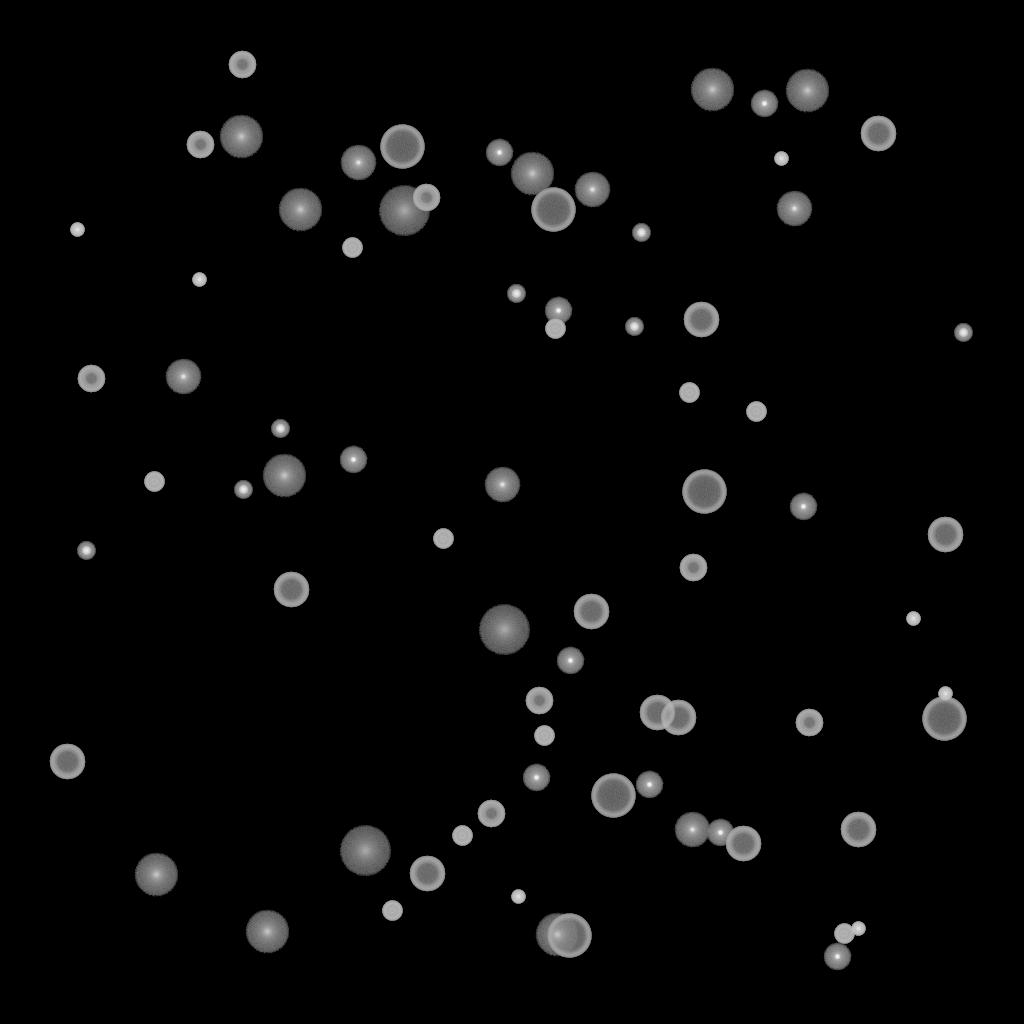depth:-10: (544, 297, 572, 325), (789, 493, 817, 521), (706, 819, 734, 847), (485, 139, 513, 167), (750, 90, 778, 118), (339, 446, 367, 474), (522, 764, 550, 792), (823, 943, 851, 971), (635, 771, 663, 799), (556, 647, 584, 675)
depth:-20: (271, 420, 289, 438), (234, 481, 252, 499), (77, 542, 95, 560), (954, 324, 972, 342), (507, 285, 525, 303), (625, 318, 643, 336), (632, 224, 650, 242)
depth:-30: (851, 922, 865, 936), (906, 612, 920, 626), (192, 273, 206, 287), (774, 152, 788, 166), (938, 687, 952, 701), (70, 223, 84, 237), (511, 890, 525, 904)
depth:-40: (144, 472, 164, 492), (534, 726, 554, 746), (746, 402, 766, 422), (679, 383, 699, 403), (342, 238, 362, 258), (382, 901, 402, 921), (452, 826, 472, 846), (834, 924, 854, 944), (545, 319, 565, 339), (433, 529, 453, 549)
depth:-50: (795, 709, 823, 737), (525, 687, 553, 715), (412, 184, 440, 212), (679, 554, 707, 582), (186, 131, 214, 159), (228, 51, 256, 79), (477, 800, 505, 828), (77, 365, 105, 393)
depth:-60: (927, 517, 963, 553), (683, 302, 719, 338), (660, 700, 696, 736), (639, 695, 675, 731), (409, 856, 445, 892), (273, 572, 309, 608), (840, 812, 876, 848), (573, 594, 609, 630), (725, 826, 761, 862), (49, 744, 85, 780), (860, 116, 896, 152)
depth:-70: (531, 188, 575, 232), (591, 774, 635, 818), (547, 914, 591, 958), (380, 125, 424, 169), (682, 470, 726, 514), (922, 697, 966, 741)
depth:0: (340, 145, 376, 181), (484, 467, 520, 503), (165, 359, 201, 395), (674, 812, 710, 848), (574, 172, 610, 208), (776, 191, 812, 227)
depth:10: (785, 69, 829, 113), (510, 152, 554, 196), (690, 68, 734, 112), (535, 913, 579, 957), (245, 910, 289, 954), (262, 454, 306, 498), (219, 115, 263, 159), (278, 188, 322, 232), (134, 853, 178, 897)
depth:20: (478, 605, 530, 655), (339, 826, 391, 876), (378, 186, 430, 236)
